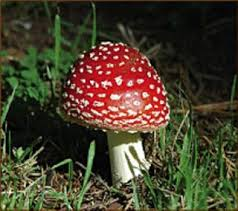Amanita muscaria: (54, 40, 172, 175)
